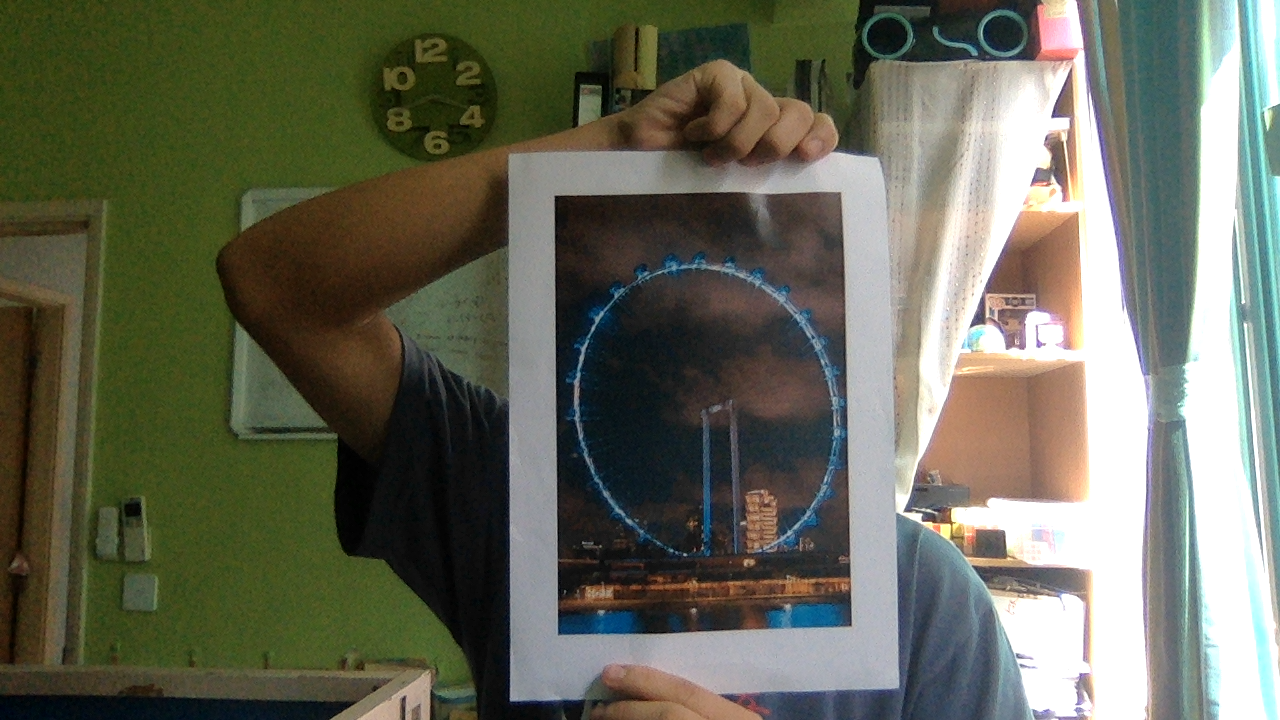Flyer: (552, 194, 855, 633)
